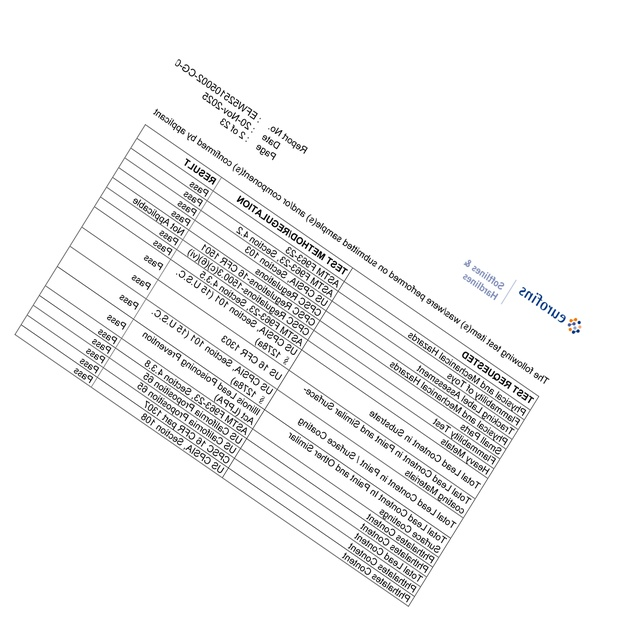eurofins: (515, 278, 587, 340)
